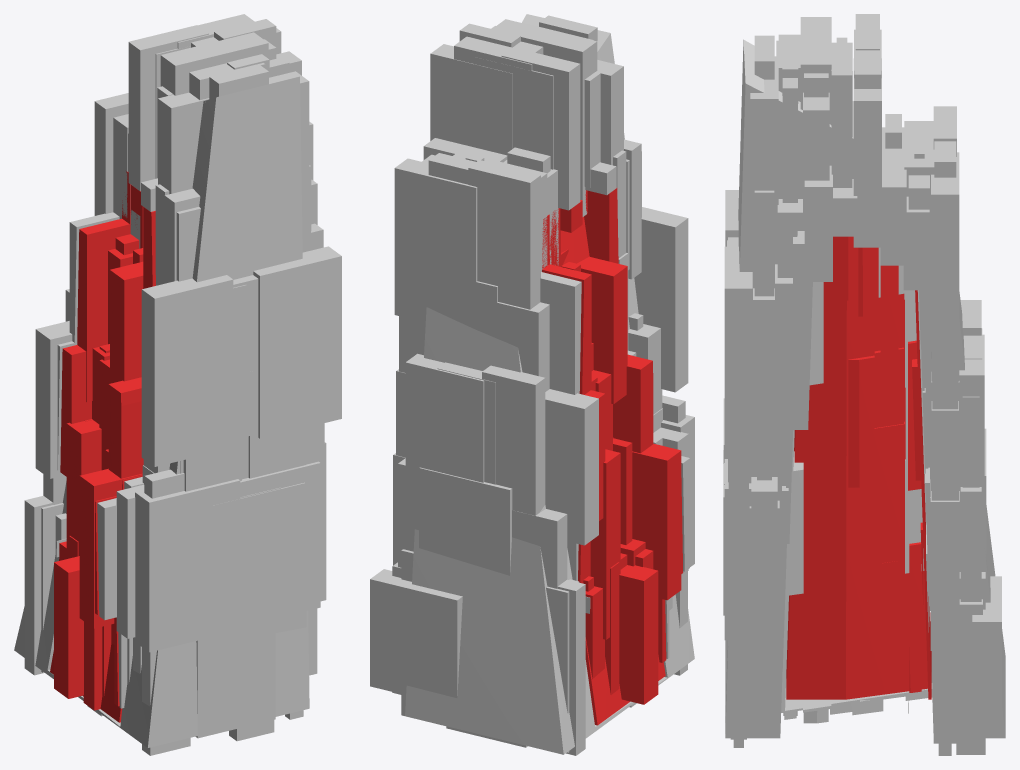
The model's file is seperate door.fbx.
3 renders of one model, left to right at view 1: azimuth 30°, elevation 25°; view 2: azimuth 150°, elevation 25°; view 3: azimuth 270°, elevation 25°, orthographic. The views are drawn at different scales.
Parts seen in each view (by area): view 1: 物件_1, 物件_3; view 2: 物件_1, 物件_3; view 3: 物件_1, 物件_3.
Part boxes in pixels (box(x1,y1,x2,y2)): 物件_1: box(14, 14, 341, 755); 物件_3: box(50, 171, 155, 722); 物件_1: box(370, 14, 694, 755); 物件_3: box(542, 188, 683, 725); 物件_1: box(723, 14, 1005, 755); 物件_3: box(786, 236, 931, 699).
Size of the model in its own units: 3.52 by 3.65 by 9.86.
